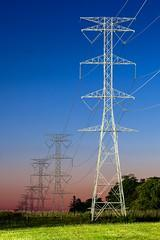power_tower: (79, 10, 141, 226), (44, 132, 80, 221)
